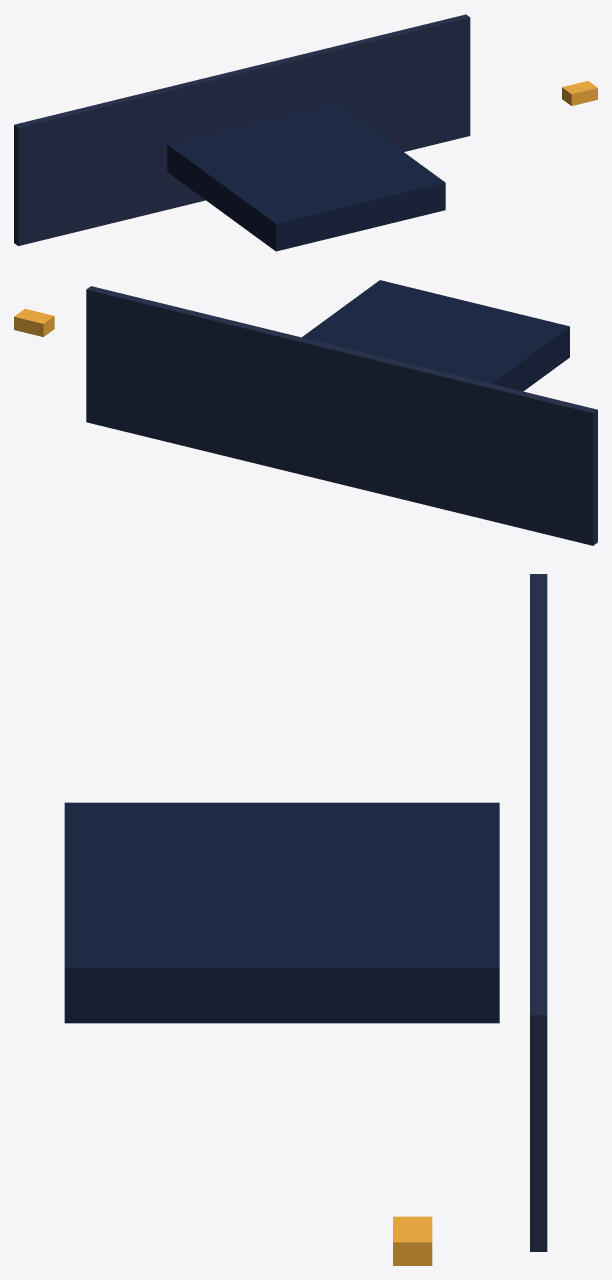
3 renders of one model, top to bottom at view 1: azimuth 30°, elevation 25°; view 2: azimuth 150°, elevation 25°; view 3: azimuth 270°, elevation 25°, orthographic. The views are drawn at different scales.
Parts seen in each view (by area): view 1: avatar-guide; view 2: avatar-guide; view 3: avatar-guide.
Boxes of the visible parts, <box> form: avatar-guide: <box>14,14,597,251</box>; avatar-guide: <box>14,280,597,545</box>; avatar-guide: <box>64,574,547,1265</box>.
Bounding box in the file's own units: 5.79 × 1.2 × 2.22.
